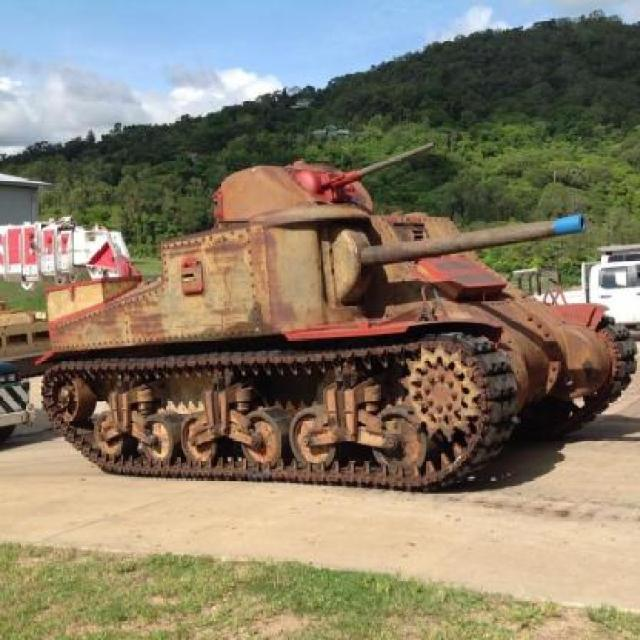corrosion: (46, 156, 640, 495)
